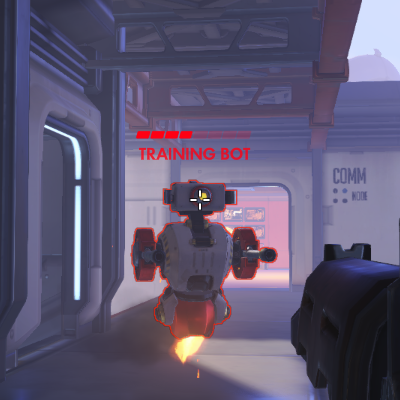hpbar: (135, 130, 252, 139)
